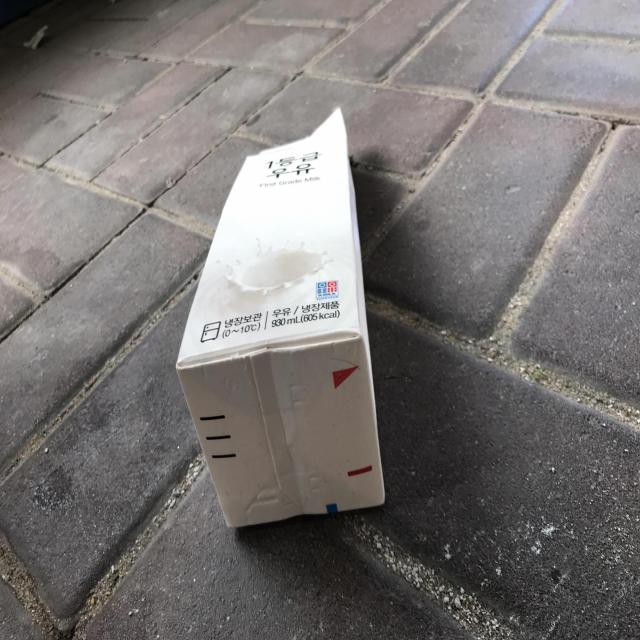paperpack: (177, 108, 384, 528)
